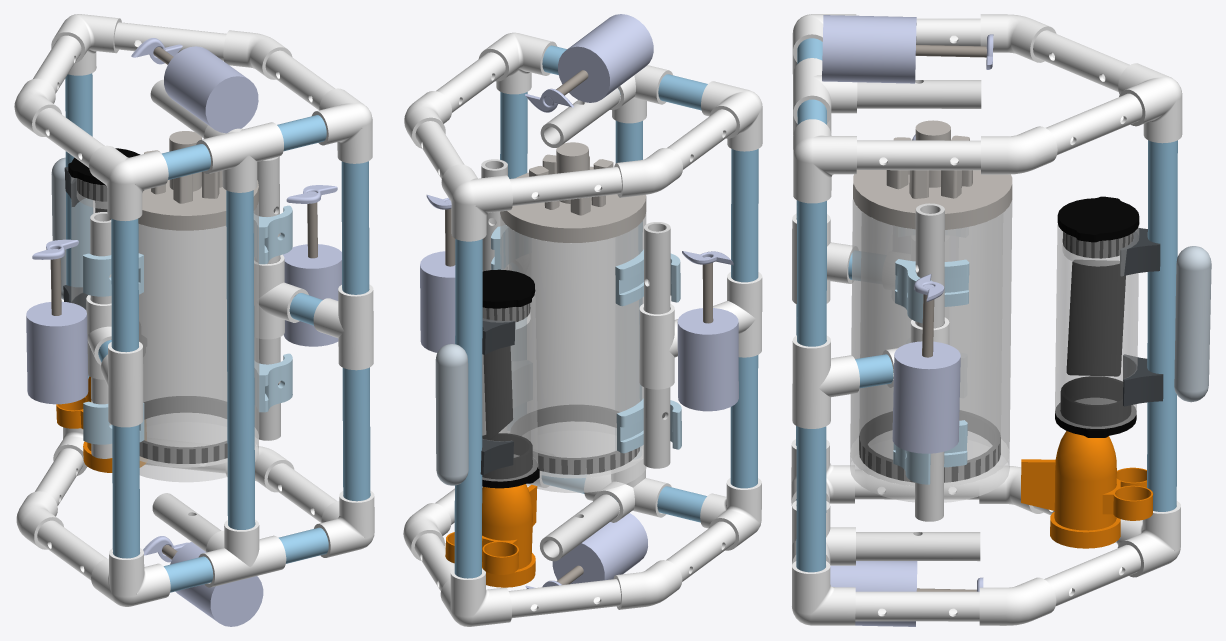
The model's file is rov.glb.
3 renders of one model, left to right at view 1: azimuth 30°, elevation 25°; view 2: azimuth 150°, elevation 25°; view 3: azimuth 270°, elevation 25°, orthographic. The views are drawn at different scales.
Parts seen in each view (by area): view 1: Part 1 (×14), tri-corner (×6), PVC 14in (×2), 4-way T connector (×2), RailB, RailA, MountA__T-Connector (×2), Mounting Bracket (×4), 45 deg connector (×4), Part 9, PVC 7.188 (×2), MountB__T-Connector (×2) (+9 smaller); view 2: Part 1 (×18), tri-corner (×5), PVC 14in (×2), Part 6, 45 deg connector (×4), Part 9, RailB, MountB__T-Connector (×2), 4-way T connector (×2), MountB__0.5x3.5in pipe (×2), 0.5x3.5in pipe (×2), Mounting Bracket (×3) (+8 smaller); view 3: Part 1 (×17), tri-corner (×6), Part 6, PVC 14in, 45 deg connector (×4), RailA, Part 9, 0.5x3.5in pipe (×2), Body, MountA__T-Connector (×2), Part 2 (×3), Mounting Bracket (×2) (+8 smaller).
Part boxes in pixels (x1,y1,x2,y2): Part 1 (×14): [26, 22, 341, 626]; tri-corner (×6): [51, 14, 374, 606]; PVC 14in (×2): [65, 73, 255, 529]; 4-way T connector (×2): [196, 122, 286, 587]; RailB: [111, 218, 139, 558]; RailA: [341, 161, 370, 501]; MountA__T-Connector (×2): [254, 255, 373, 370]; Mounting Bracket (×4): [83, 205, 292, 444]; 45 deg connector (×4): [14, 30, 294, 549]; Part 9: [138, 131, 258, 230]; PVC 7.188 (×2): [161, 115, 328, 592]; MountB__T-Connector (×2): [86, 295, 143, 427]; Part 1 (×18): [414, 14, 738, 618]; tri-corner (×5): [440, 32, 762, 626]; PVC 14in (×2): [454, 90, 642, 578]; Part 6: [482, 292, 538, 481]; 45 deg connector (×4): [403, 91, 682, 609]; Part 9: [500, 142, 646, 242]; RailB: [730, 149, 758, 488]; MountB__T-Connector (×2): [639, 272, 762, 389]; 4-way T connector (×2): [584, 65, 672, 522]; MountB__0.5x3.5in pipe (×2): [643, 222, 670, 468]; 0.5x3.5in pipe (×2): [540, 88, 620, 561]; Mounting Bracket (×3): [491, 225, 681, 453]; Part 1 (×17): [822, 15, 1211, 626]; tri-corner (×6): [791, 14, 1182, 625]; Part 6: [1055, 223, 1139, 428]; PVC 14in: [1147, 140, 1177, 511]; 45 deg connector (×4): [979, 14, 1057, 625]; RailA: [796, 201, 826, 572]; Part 9: [853, 120, 1012, 229]; 0.5x3.5in pipe (×2): [856, 80, 981, 561]; Body: [1021, 431, 1116, 530]; MountA__T-Connector (×2): [792, 317, 949, 428]; Part 2 (×3): [859, 45, 1000, 482]; Mounting Bracket (×2): [893, 259, 969, 484].
Bounding box in the file's own units: 0.2795 × 0.4758 × 0.3006.
